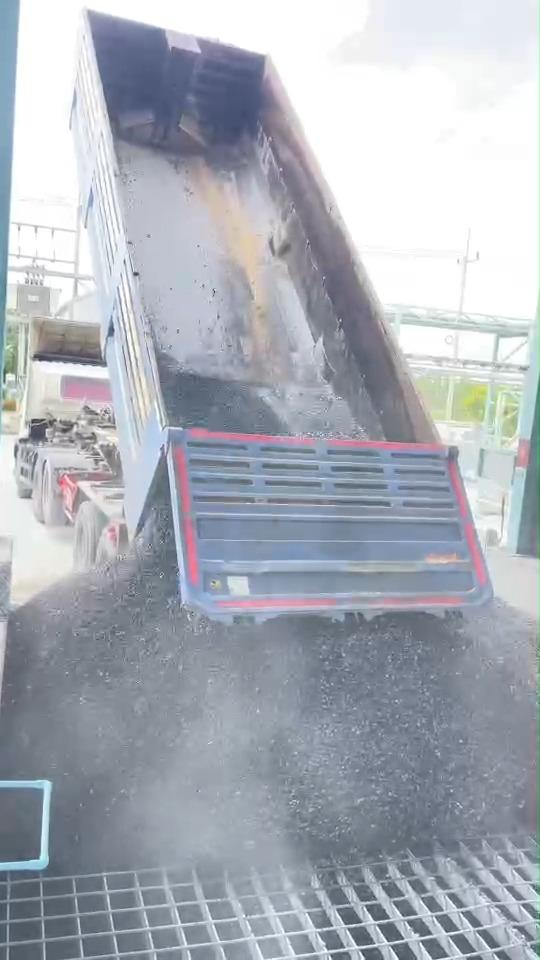gravel: (1, 553, 536, 870), (166, 361, 284, 433), (0, 787, 41, 860), (2, 825, 6, 850)
